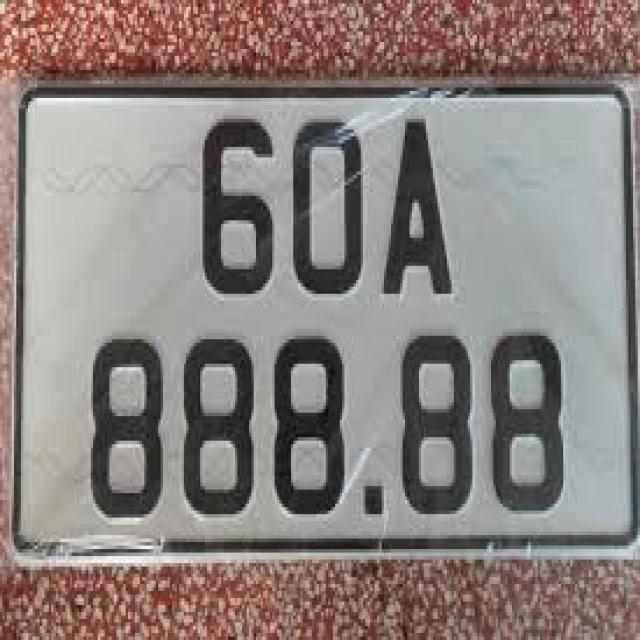bien_so: (11, 41, 626, 584)
